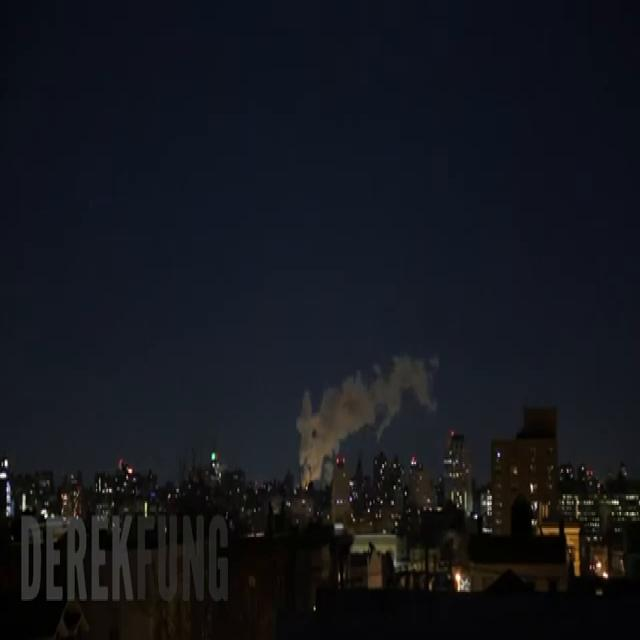smoke: (296, 356, 437, 478)
